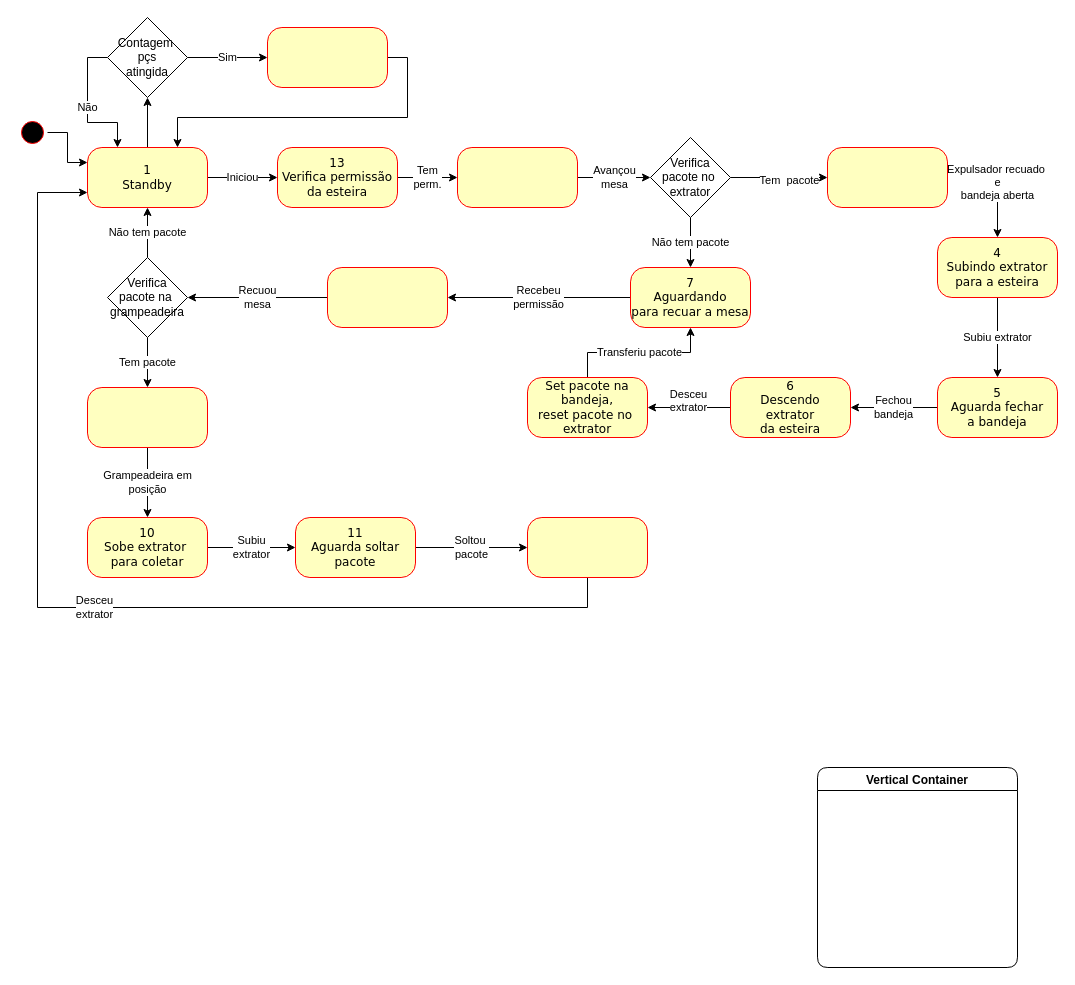
This 1075x985 diagram has some shape labels left out. The shapes that lost their labels are listed below. From the top down, each one's centre as x and y in pixels, then its label:
At (327,57): "Mostra mensagem de ciclo finalizado".
At (517,177): "2 Avançando mesa".
At (887,177): "3 Aguardando para subir para esteira".
At (387,297): "8 Recuando mesa".
At (147,417): "9 Aguarda permissão para subir extrator".
At (587,547): "12 Desce extrator, Set pacote no extrator".
